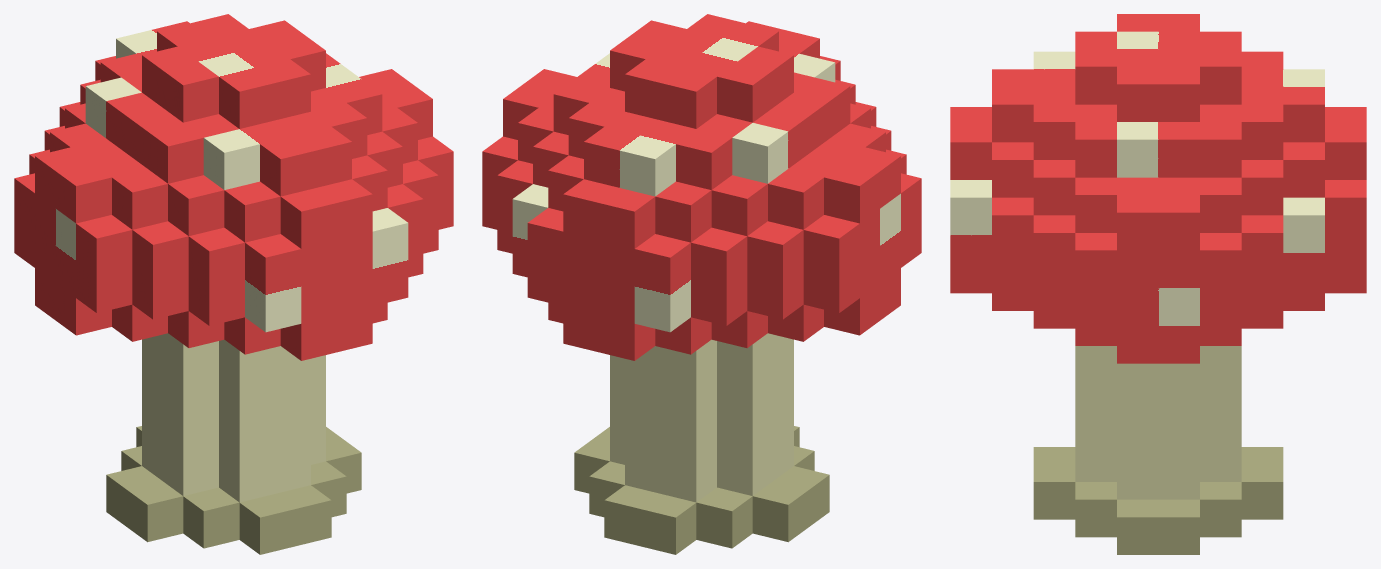
Rendered from red_mushroom.fbx.
The picture shows the model from 3 angles, left to right: view 1: azimuth 30°, elevation 25°; view 2: azimuth 150°, elevation 25°; view 3: azimuth 270°, elevation 25°; orthographic projection.
Visible parts, largest first — view 1: red_mushroom; view 2: red_mushroom; view 3: red_mushroom.
Part boxes in pixels (x1,y1,x2,y2): red_mushroom: (14, 14, 453, 554); red_mushroom: (482, 14, 921, 554); red_mushroom: (950, 14, 1366, 554).
Bounding box in the file's own units: 47.9 × 57.48 × 47.9.
1 material, 1 textured.
